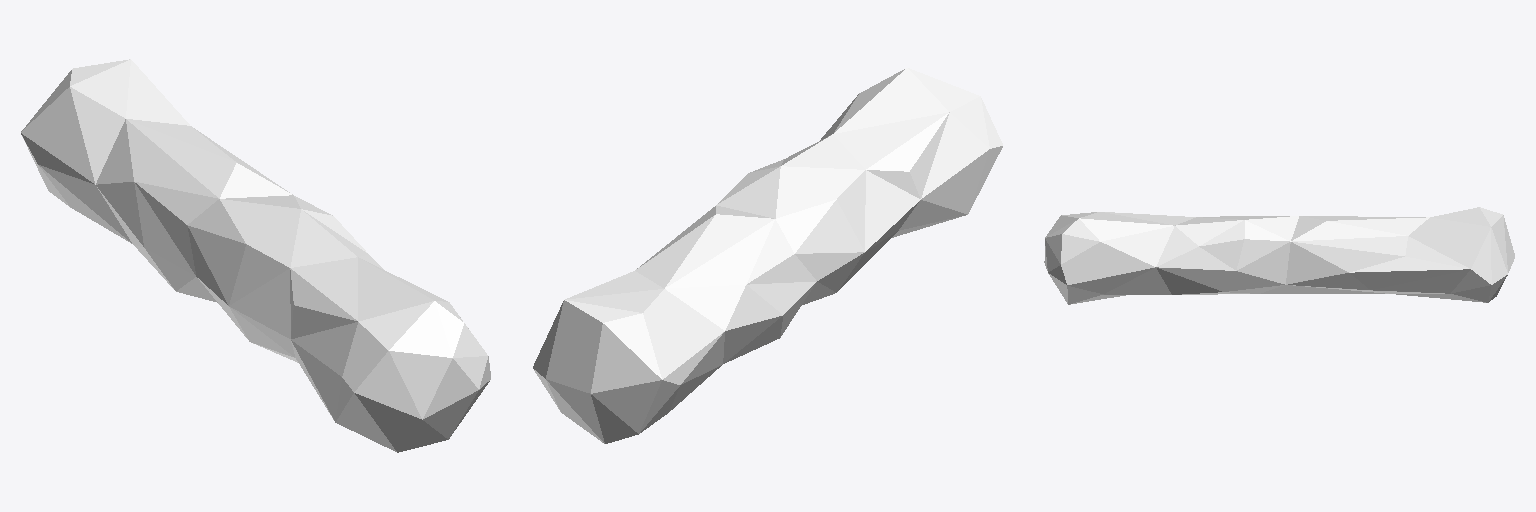
URDF robot description (atb1_rod-12mm):
<?xml version="0.0" ?>
<robot name="atb1_rod-12mm">
  <link name="baseLink">
    <contact>
      <friction_anchor/>
      <lateral_friction value="0.8"/>
      <spinning_friction value="0.001"/>
      <rolling_friction value="0.001"/>
      <contact_cfm value="0.0"/>
      <contact_erp value="0.2"/>
    </contact>
    <inertial>
       <origin rpy="0 0 0" xyz="0 0 0"/>
       <mass value="0.01"/>
       <inertia ixx="1e-3" ixy="0" ixz="0" iyy="1e-3" iyz="0" izz="1e-3"/>
    </inertial>
    <visual>
      <origin rpy="0 0 0" xyz="0 0 0"/>
      <geometry>
        <mesh filename="obj/fused_model.obj" scale="1 1 1"/>
      </geometry>
      <material name="white">
        <color rgba="1. 1. 1. 1."/>
      </material>
    </visual>
    <collision>
      <origin rpy="0 0 0" xyz="0 0 0"/>
      <geometry>
        <mesh filename="obj/fused_model.obj" scale="1 1 1"/>
      </geometry>
    </collision>
  </link>
</robot>

--- Render facts (derived) ---
Views: 3 orthographic renders of the robot side by side, from view 1: azimuth 30°, elevation 25°; view 2: azimuth 150°, elevation 25°; view 3: azimuth 270°, elevation 25°.
Model atb1_rod-12mm with 1 links and 0 joints (none), rooted at baseLink, posed all joints at 0.
Links seen in each view (by area): view 1: baseLink; view 2: baseLink; view 3: baseLink.
Link boxes in pixels (left/top/right/bottom): baseLink: left=21, top=59, right=490, bottom=452; baseLink: left=533, top=68, right=1002, bottom=443; baseLink: left=1044, top=207, right=1514, bottom=304.
Size in the robot's own frame: 0.0119 by 0.0534 by 0.0107 metres.
1 mesh visuals loaded from 1 distinct referenced files (1 OBJ).
